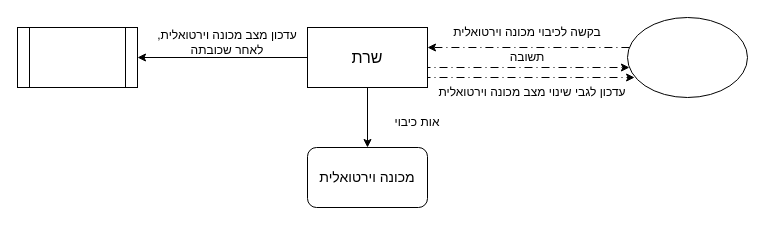
The diagram is 765 pixels wide and 225 high, and some of its shapes have lost their labels. The centre of each missing label's shape, as x and y in pixels:
לקוח: the point at 687,57
מסד נתונים: the point at 77,57
